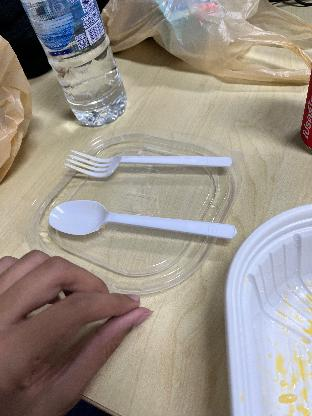Others: (46, 191, 239, 251), (64, 140, 236, 186)
Plastic Bottle: (17, 0, 137, 124)
